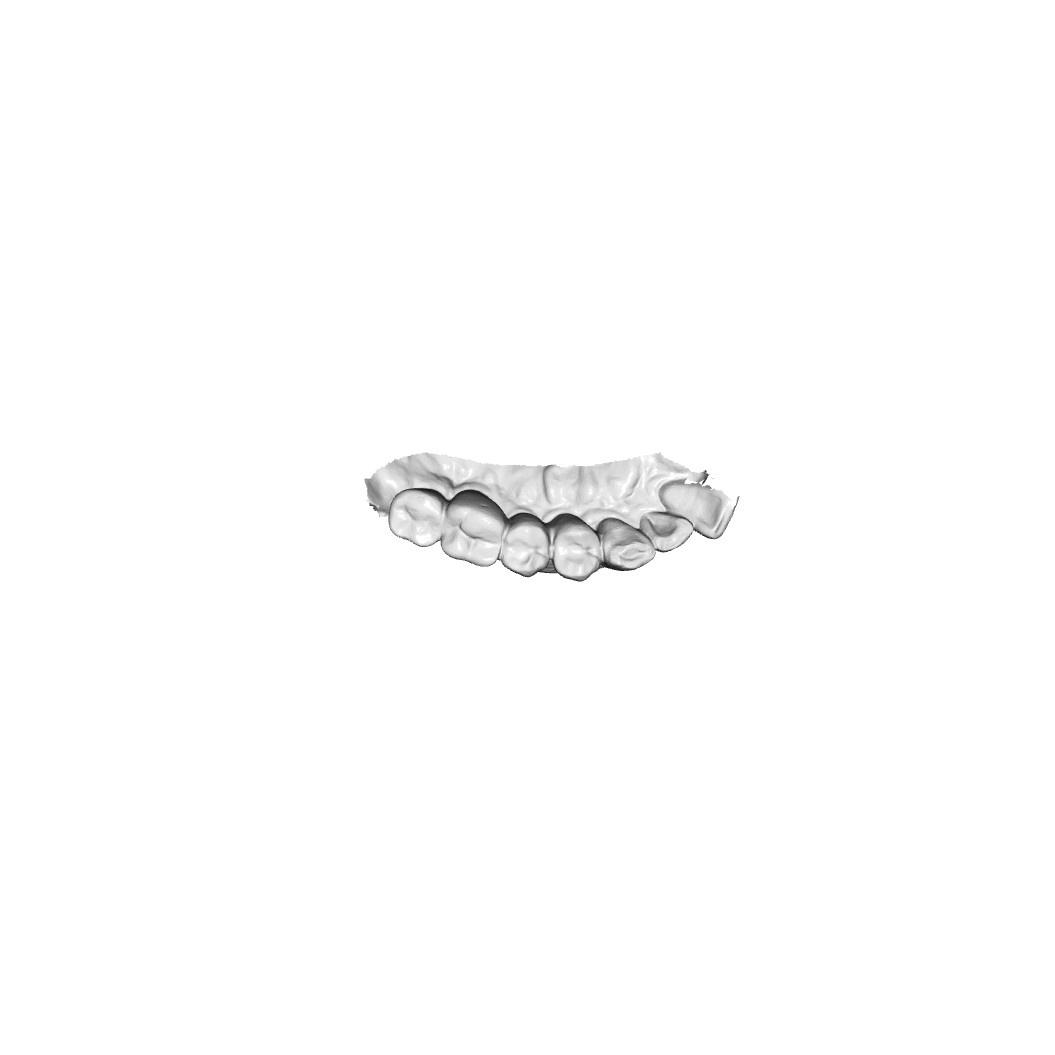canine: (600, 514, 656, 574)
incisor: (667, 479, 734, 539), (641, 511, 692, 557)
molar: (445, 492, 510, 565), (388, 488, 449, 551)
premolar: (551, 514, 603, 584), (504, 519, 546, 574)
